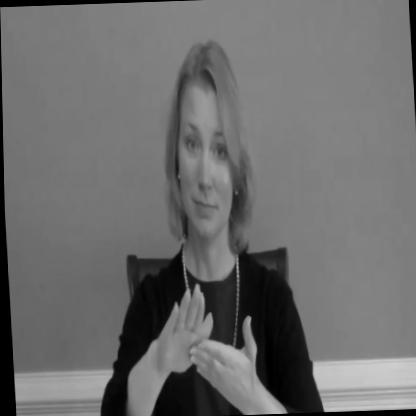NiceToMeetYou: (83, 33, 321, 416)
